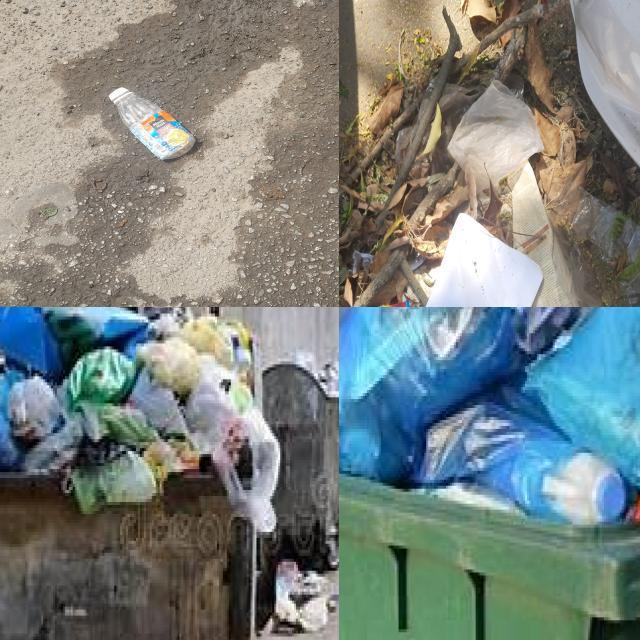Garbage: (339, 19, 640, 307), (339, 307, 640, 546), (0, 307, 281, 531), (519, 5, 553, 19)
Plastic_Bag: (339, 307, 640, 531), (185, 352, 281, 532), (547, 183, 640, 307), (448, 80, 544, 193), (0, 307, 148, 379), (72, 451, 157, 514), (432, 84, 485, 171), (129, 368, 188, 438), (65, 348, 136, 405), (136, 336, 199, 399), (10, 375, 63, 447), (80, 402, 159, 449), (99, 451, 157, 505), (181, 316, 233, 368), (0, 409, 23, 471), (394, 122, 417, 164), (417, 80, 435, 122), (506, 73, 525, 98), (420, 128, 430, 150)
Plastic_bottle: (110, 88, 195, 159)
